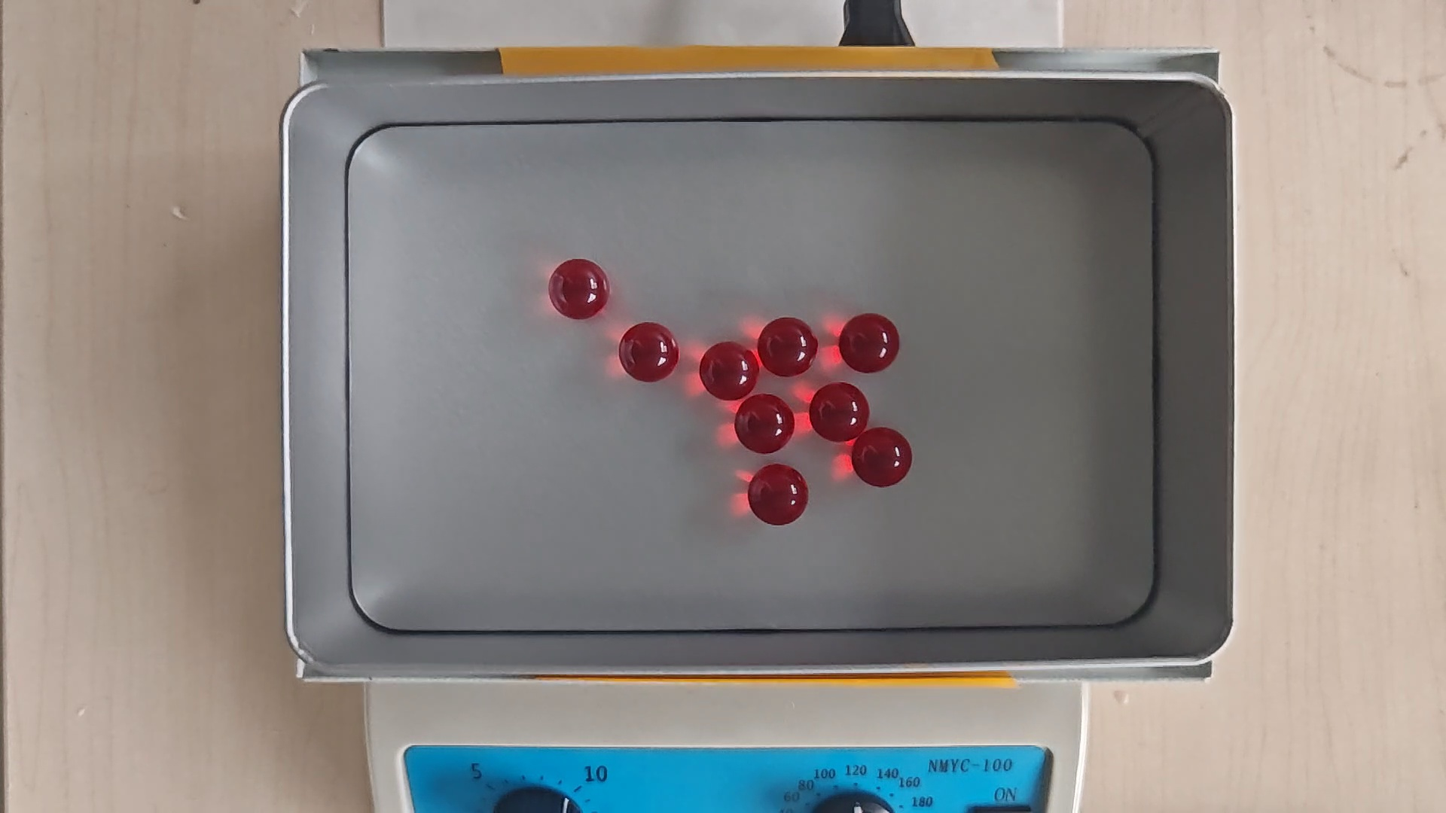ball: (747, 464, 810, 526), (618, 321, 679, 383), (852, 427, 913, 489), (840, 312, 900, 375), (549, 258, 609, 321), (758, 316, 817, 378), (810, 382, 869, 442), (735, 395, 794, 454), (699, 342, 758, 400)
container: (348, 119, 1155, 631)
